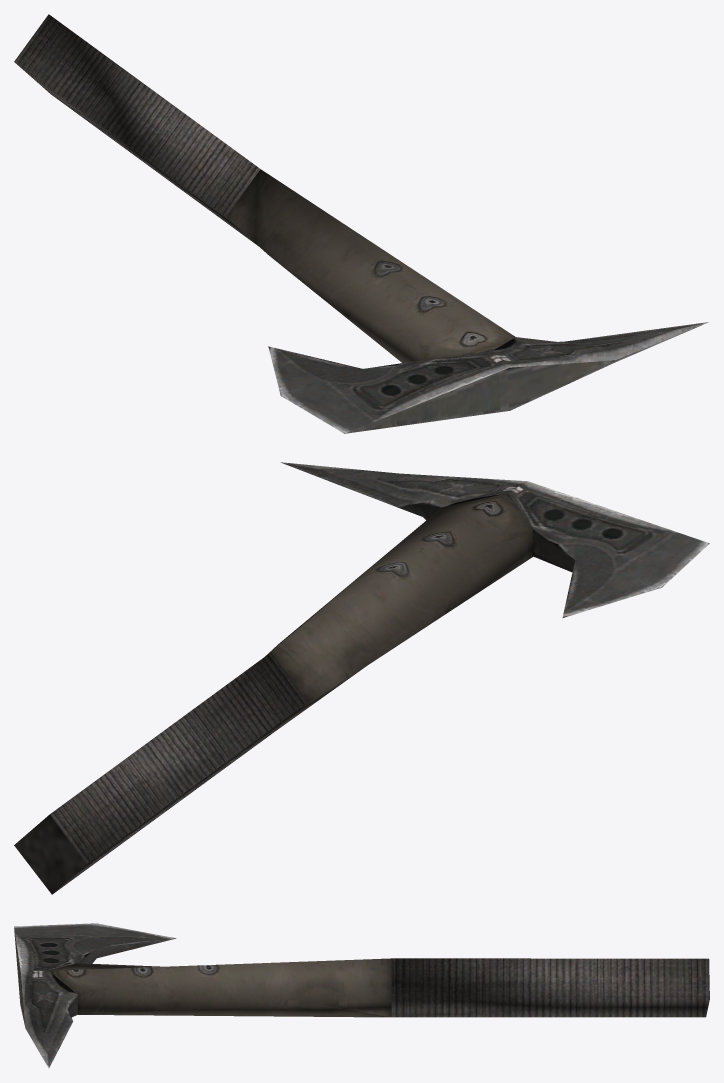
Rendered from Pickup_WeaponJf01.glb.
3 views of the same model, one above another, from view 1: azimuth 30°, elevation 25°; view 2: azimuth 150°, elevation 25°; view 3: azimuth 270°, elevation 25° (orthographic). The views are drawn at different scales.
Visible parts, largest first — view 1: pk_weapon_jf_01; view 2: pk_weapon_jf_01; view 3: pk_weapon_jf_01.
Boxes of the visible parts, bbox=[...] form: pk_weapon_jf_01: bbox=[14, 14, 708, 433]; pk_weapon_jf_01: bbox=[14, 462, 709, 894]; pk_weapon_jf_01: bbox=[14, 923, 709, 1068].
Size of the model in its own units: 0.1771 by 0.0335 by 0.3581.
1 material, 1 textured.
